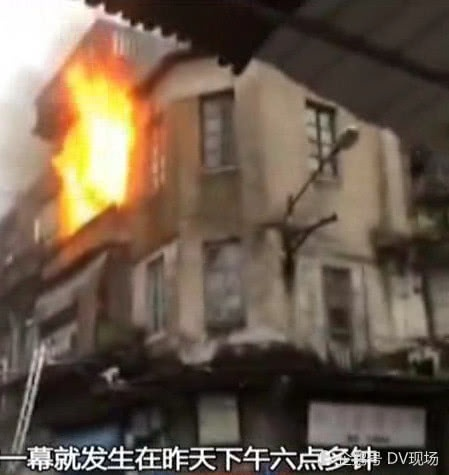fire: (49, 60, 143, 228)
